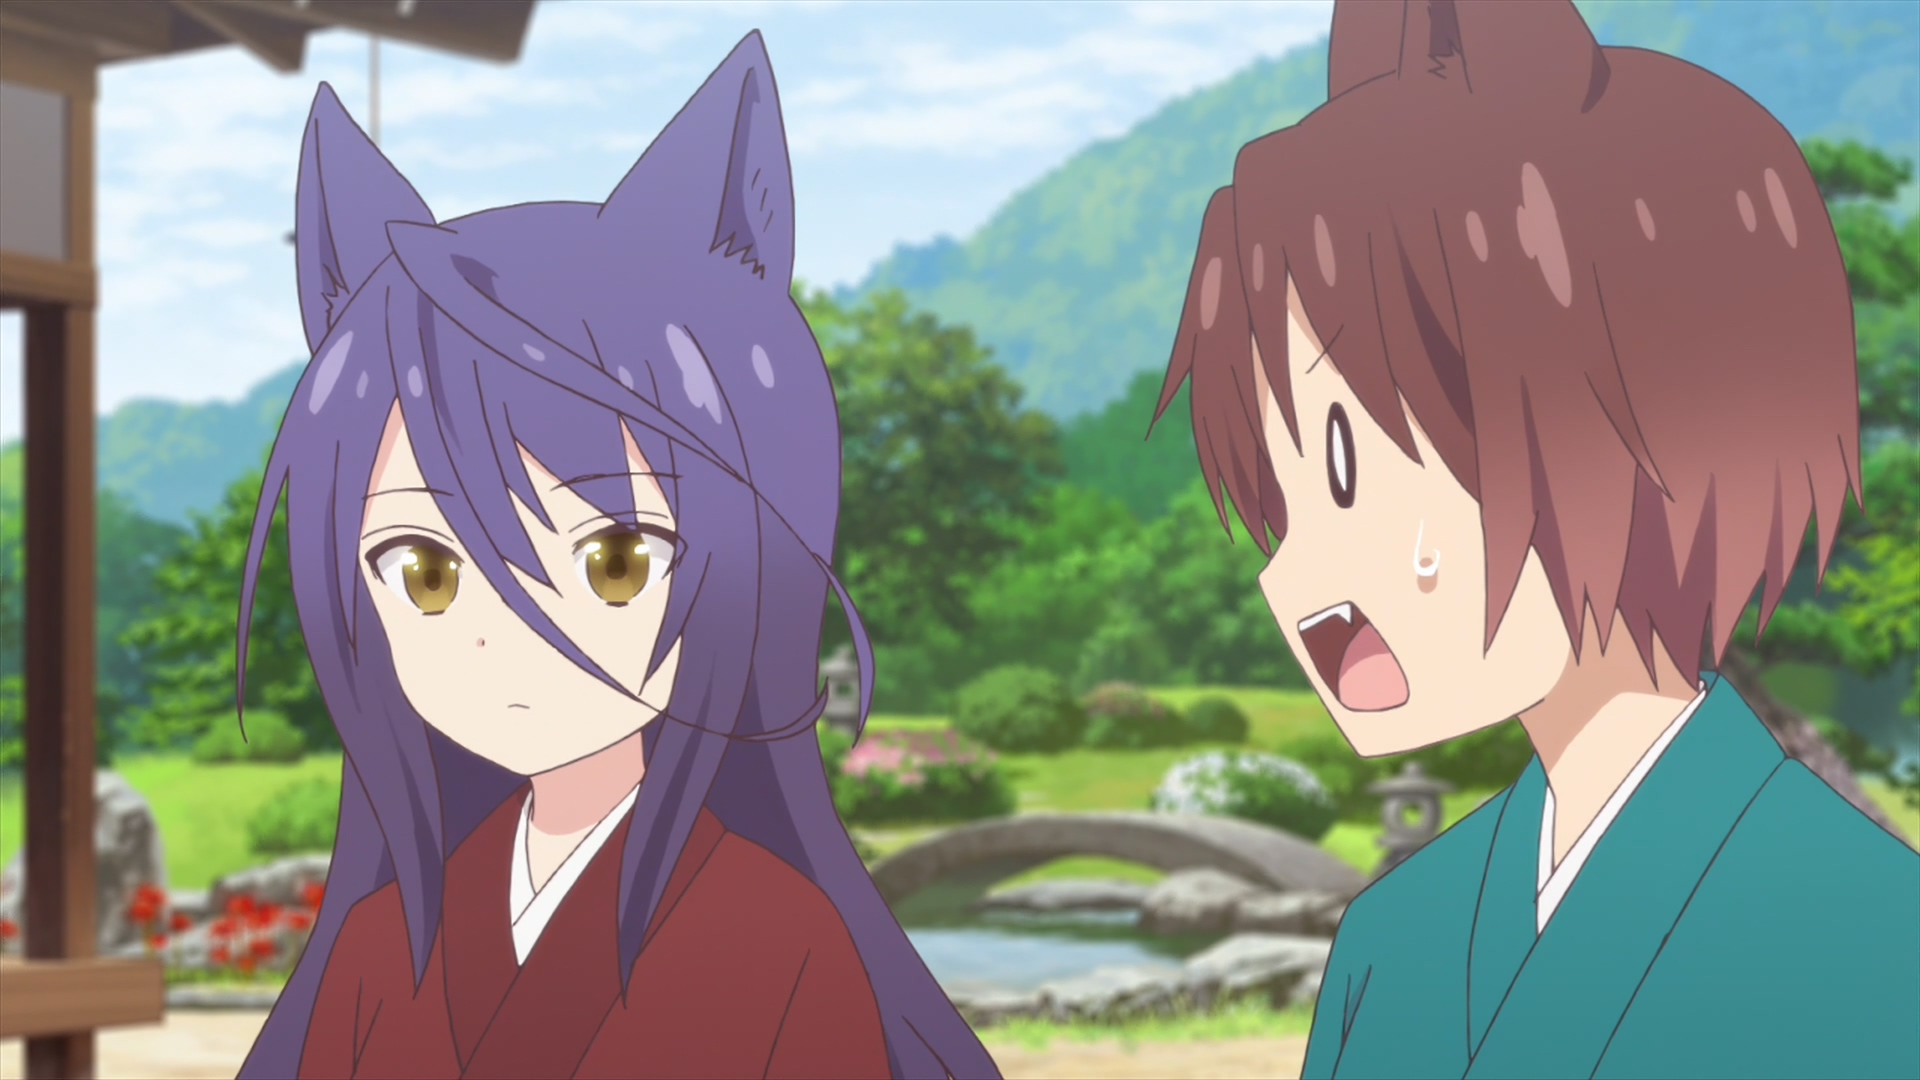枣: (1146, 1, 1920, 1080)
皋: (235, 30, 1004, 1080)
